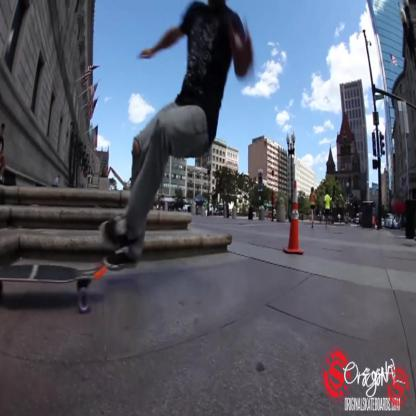Fall_Down: (98, 0, 254, 271)
